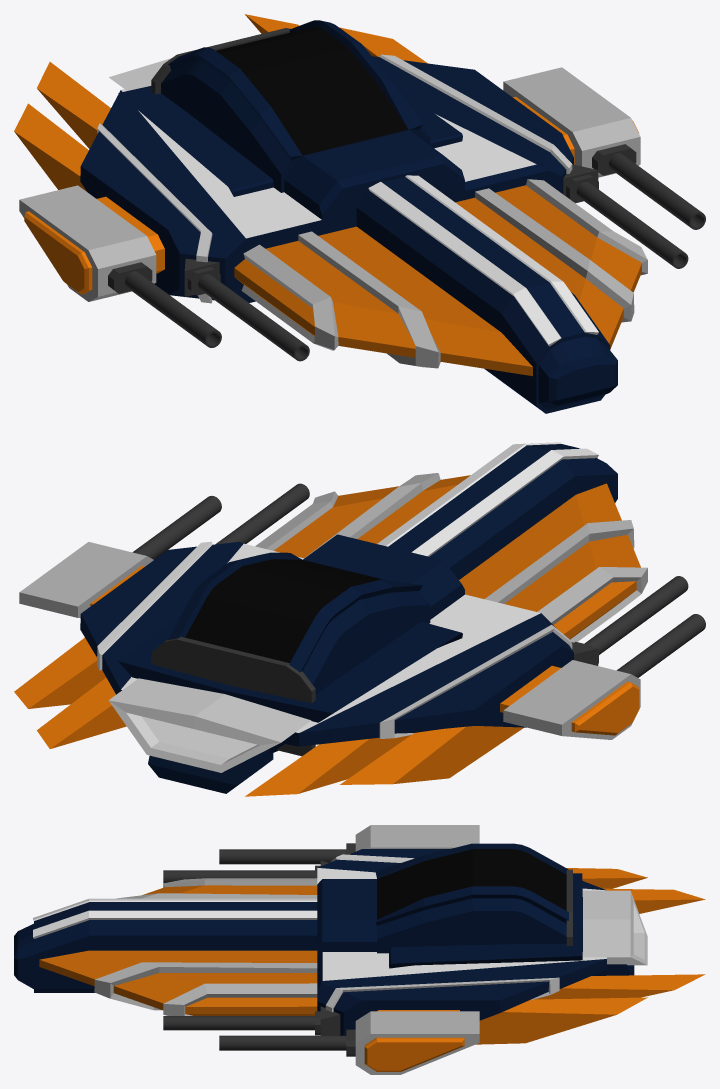
The model's file is Spaceship_01.fbx.
3 views of the same model, one above another, from view 1: azimuth 30°, elevation 25°; view 2: azimuth 150°, elevation 25°; view 3: azimuth 270°, elevation 25° (orthographic). The views are drawn at different scales.
Parts seen in each view (by area): view 1: Spaceship_01; view 2: Spaceship_01; view 3: Spaceship_01.
Boxes of the visible parts, bbox=[...] form: Spaceship_01: bbox=[14, 14, 705, 413]; Spaceship_01: bbox=[14, 442, 705, 796]; Spaceship_01: bbox=[14, 825, 705, 1074].
Bounding box in the file's own units: 917 × 245 × 1255.
